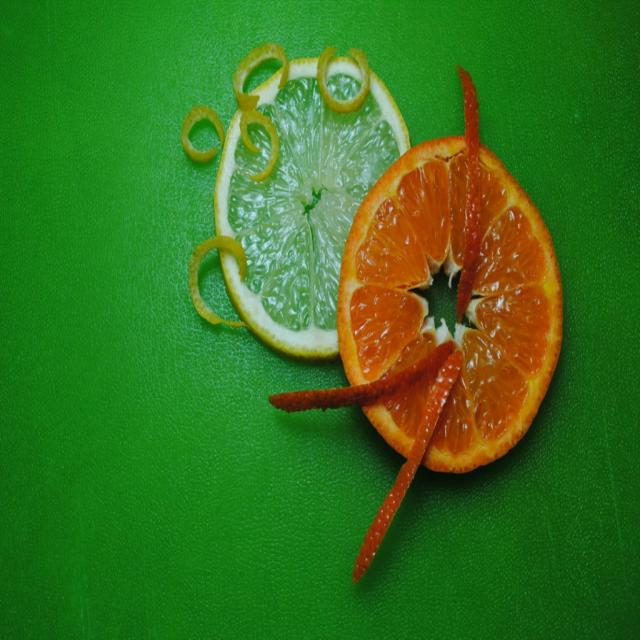Lemon: (214, 54, 408, 356)
